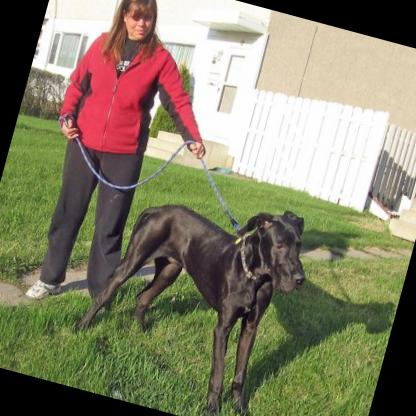Great_Dane: (60, 160, 322, 416)
